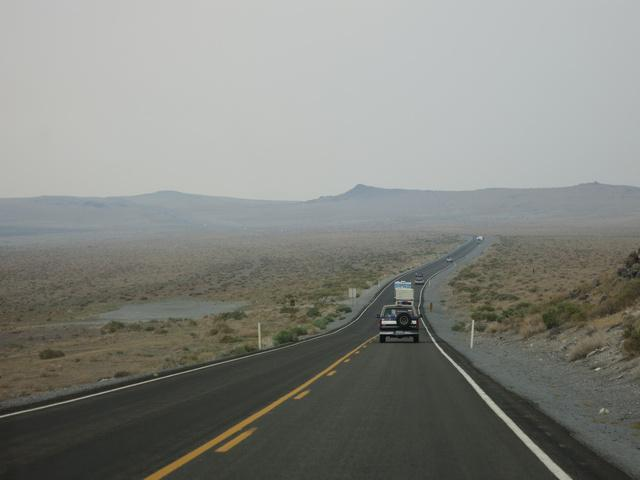bus: (393, 287, 416, 314), (393, 280, 413, 308)
car: (375, 302, 424, 343), (414, 277, 424, 285), (415, 270, 424, 277), (444, 256, 454, 262)
